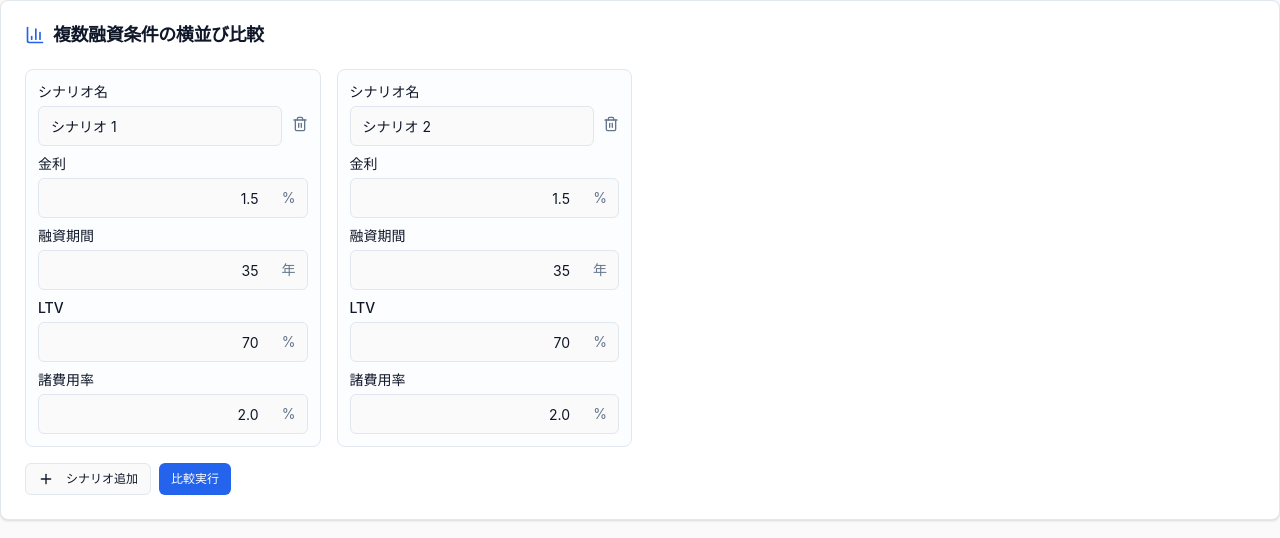
LoanComparePanel › シナリオが4件になると「シナリオ追加」ボタンが無効化される
Click the button "シナリオ追加" at (88, 479), box left=25, top=463, right=151, bottom=495
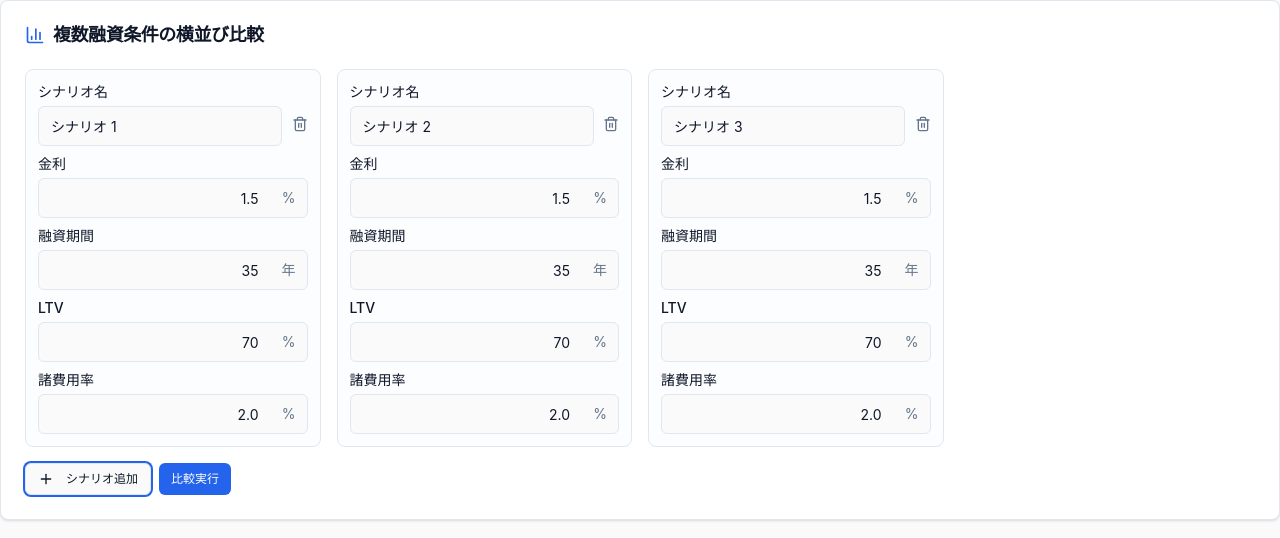
Click the button "シナリオ追加" at (88, 479), box left=25, top=463, right=151, bottom=495
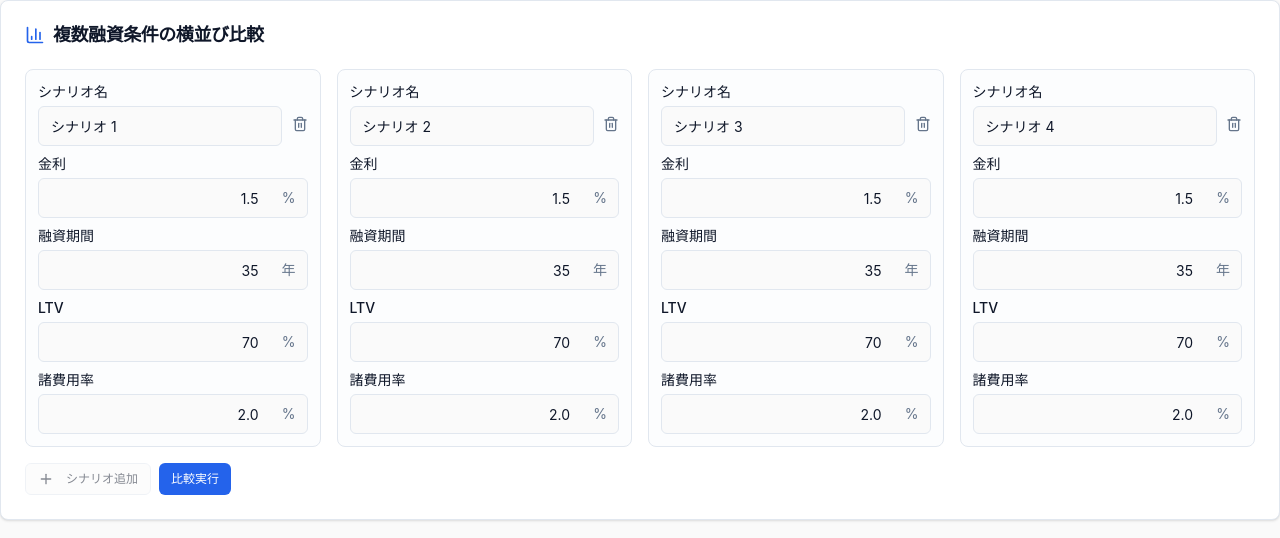
Expected: the button "シナリオ追加" is disabled, left=25, top=463, right=151, bottom=495
